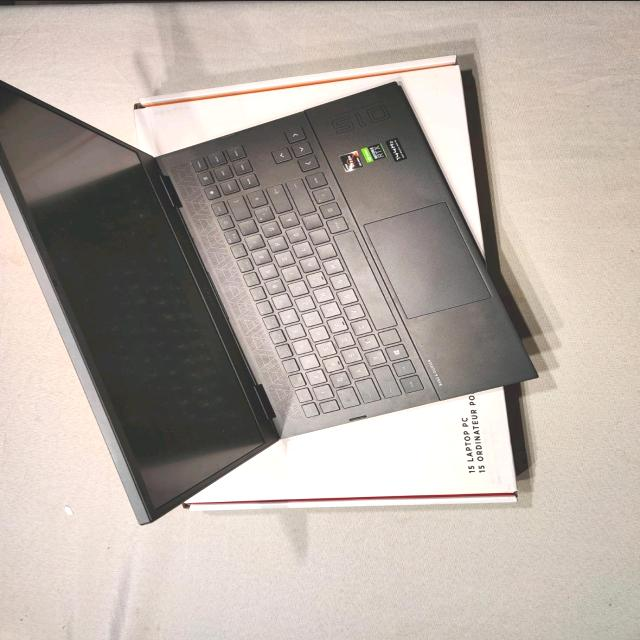0: (249, 249, 269, 265)
1: (312, 384, 333, 400)
2: (306, 369, 327, 385)
3: (299, 354, 320, 370)
4: (291, 338, 312, 354)
5: (282, 324, 303, 340)
6: (275, 309, 296, 325)
7: (269, 294, 289, 310)
8: (262, 279, 282, 295)
9: (255, 264, 275, 280)
a: (348, 362, 370, 380)
accent: (235, 219, 255, 237)
ae: (276, 212, 297, 230)
alt-left: (376, 328, 400, 346)
altgr-right: (323, 217, 347, 235)
b: (334, 288, 356, 306)
c: (348, 319, 370, 337)
caret: (319, 399, 339, 413)
comma: (313, 243, 335, 261)
d: (330, 331, 353, 349)
del: (225, 195, 249, 221)
e: (315, 340, 336, 358)
enter: (264, 184, 291, 214)
f: (324, 317, 346, 334)
g: (317, 301, 339, 319)
h: (310, 287, 332, 304)
hash: (244, 190, 264, 208)
i: (278, 266, 300, 284)
j: (303, 271, 325, 288)
k: (296, 257, 317, 274)
keyboard: (184, 80, 538, 423)
l: (289, 242, 310, 258)
less: (312, 186, 334, 204)
m: (320, 258, 341, 276)
minus: (301, 213, 323, 231)
n: (327, 273, 349, 291)
o: (272, 251, 292, 268)
oe: (282, 227, 304, 244)
p: (265, 236, 285, 252)
plus: (252, 206, 272, 223)
point: (308, 228, 330, 246)
q: (328, 370, 350, 388)
r: (306, 325, 327, 343)
s: (341, 346, 363, 364)
shift-left: (369, 365, 399, 399)
shift-lock: (352, 378, 380, 404)
shift-right: (284, 178, 314, 216)
space: (328, 231, 397, 331)
ss: (242, 234, 262, 250)
strg-left: (398, 375, 422, 393)
strg-right: (305, 171, 327, 189)
t: (299, 310, 321, 328)
tab: (334, 387, 359, 408)
u: (286, 281, 307, 298)
ue: (258, 221, 278, 239)
v: (341, 303, 363, 321)
w: (320, 356, 342, 374)
x: (355, 334, 377, 352)
y: (362, 349, 384, 367)
z: (292, 296, 313, 313)
